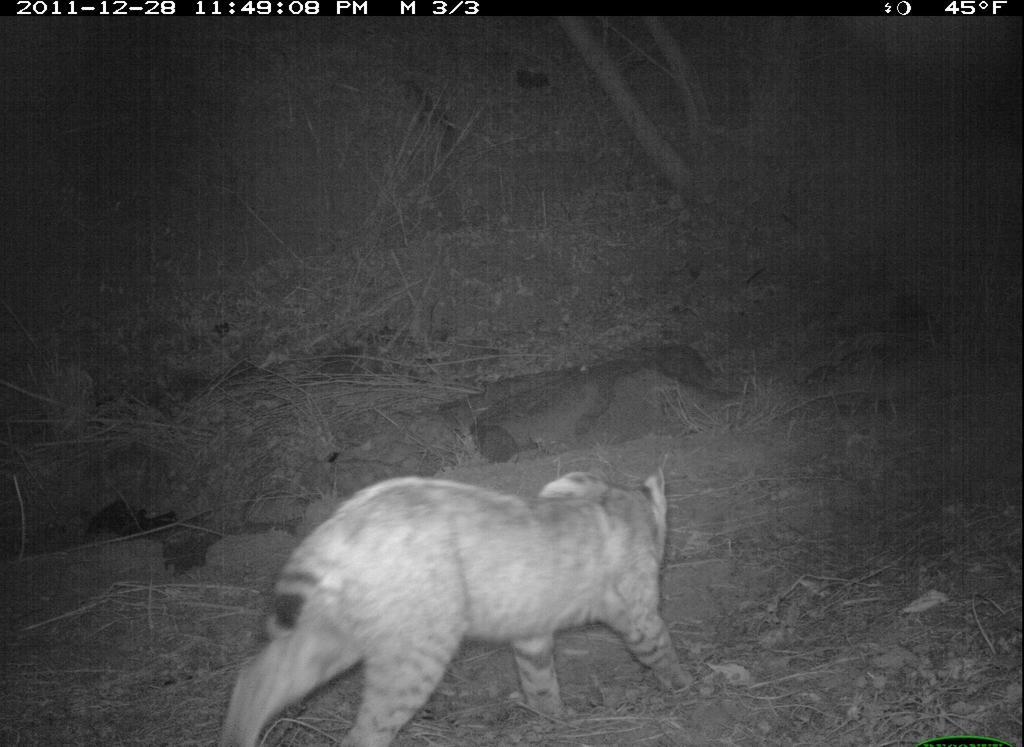bobcat: (201, 454, 692, 747)
